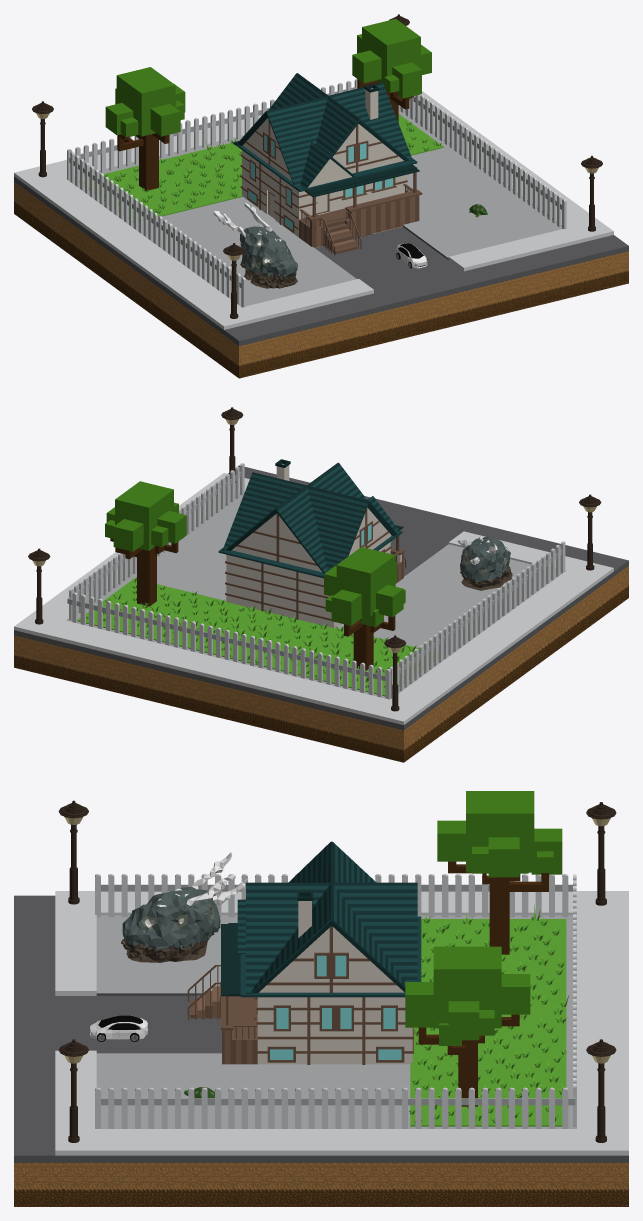
3 views of the same model, one above another, from view 1: azimuth 30°, elevation 25°; view 2: azimuth 150°, elevation 25°; view 3: azimuth 270°, elevation 25° (orthographic). The views are drawn at different scales.
Visible parts, largest first — view 1: Cube.004, Cube.793, OBJRANDOM_METEORITE, VEHICLES_TESLA; view 2: Cube.004, Cube.793, OBJRANDOM_METEORITE; view 3: Cube.004, Cube.793, OBJRANDOM_METEORITE, VEHICLES_TESLA.
Part boxes in pixels (x1,y1,x2,y2): Cube.004: [14, 14, 628, 378]; Cube.793: [233, 73, 422, 255]; OBJRANDOM_METEORITE: [213, 203, 297, 288]; VEHICLES_TESLA: [396, 243, 427, 268]; Cube.004: [14, 407, 628, 762]; Cube.793: [218, 459, 406, 627]; OBJRANDOM_METEORITE: [457, 536, 512, 590]; Cube.004: [14, 791, 628, 1206]; Cube.793: [187, 841, 421, 1064]; OBJRANDOM_METEORITE: [121, 852, 248, 962]; VEHICLES_TESLA: [90, 1015, 148, 1041].
Bounding box in the file's own units: 4000 × 1617 × 4000.
Materials: 31 (4 with a texture image).
